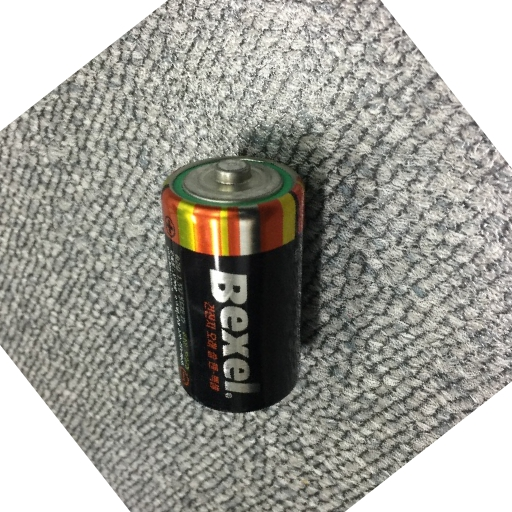Battery_0: (146, 136, 322, 422)
